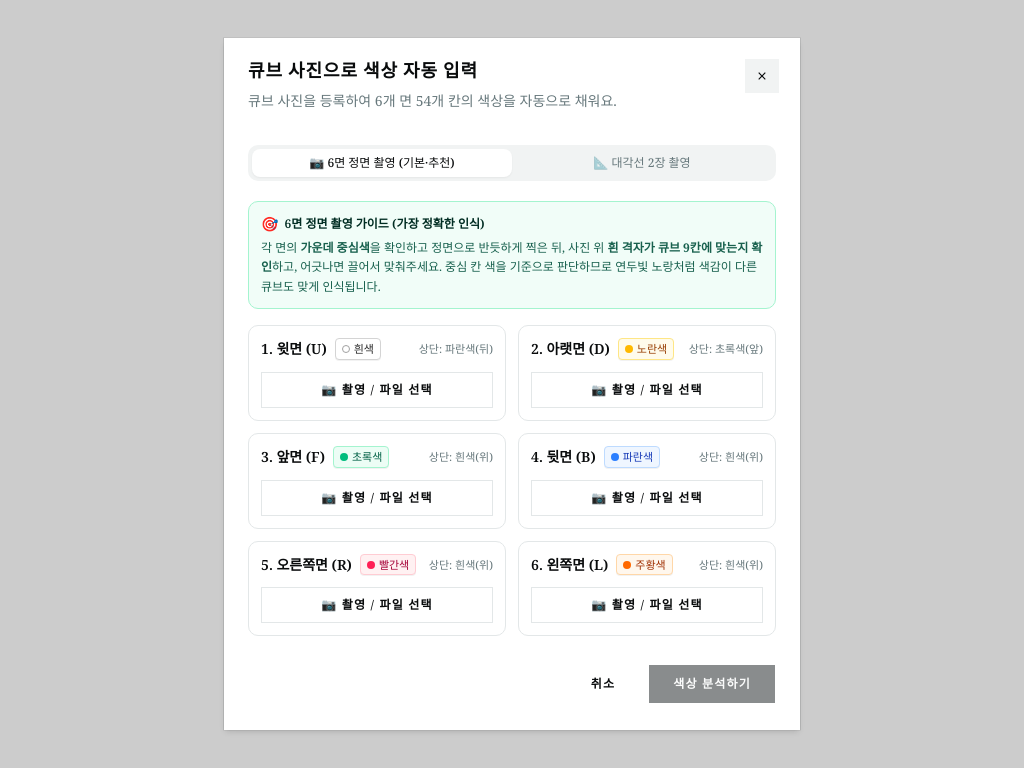
it: PhotoInputDialog › 허용되지 않은 다른 구글 계정이면 대각선 2장 촬영에서 권한 경고를 표시한다
What coordinates should you click on to do the following:
click the button "📐 대각선 2장 촬영"
I would click on:
 (642, 163)
Its box is [512, 149, 772, 177].
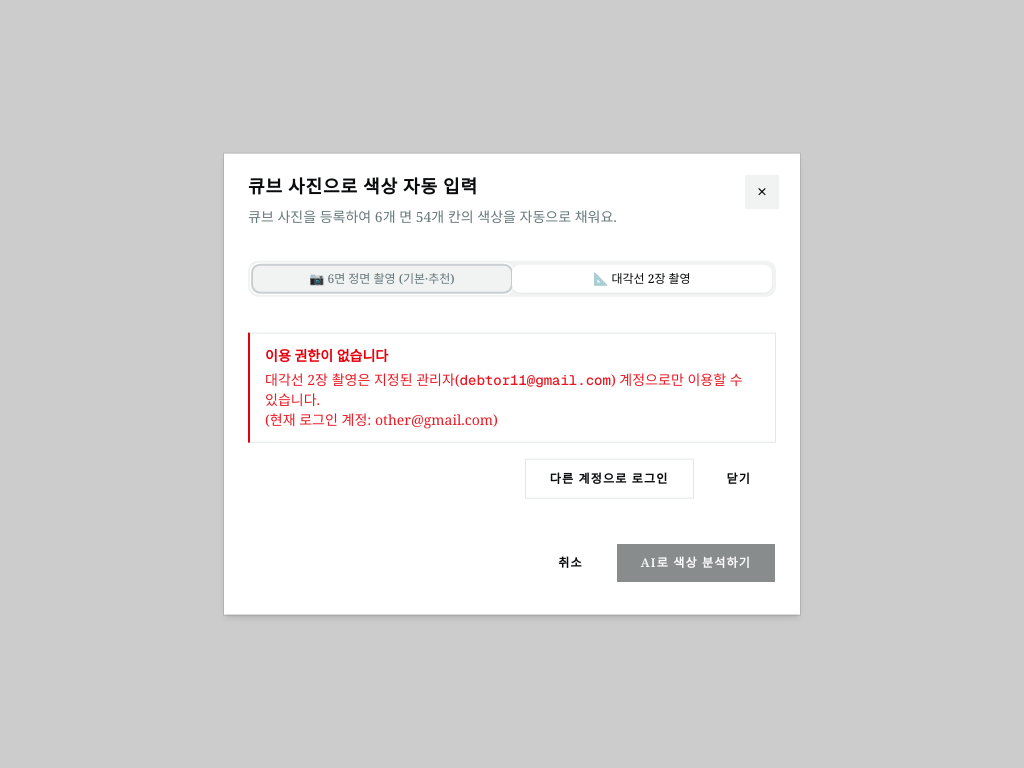
Now the text "이용 권한이 없습니다" is shown, box [265, 345, 388, 364]
Now the text "debtor11@gmail.com" is shown, box [460, 370, 611, 388]
Now the button "다른 계정으로 로그인" is shown, box [525, 458, 694, 498]
